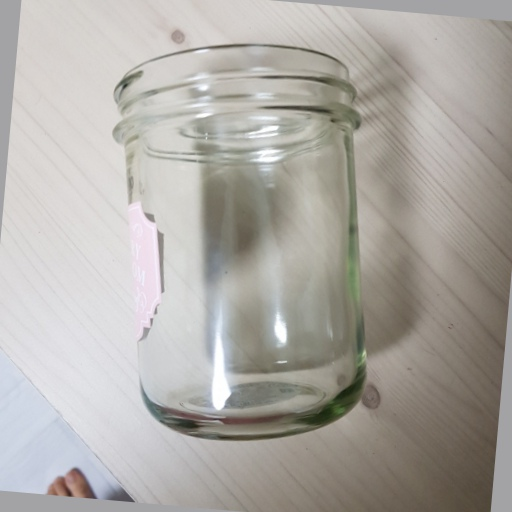Glass_5: (114, 41, 367, 439)
